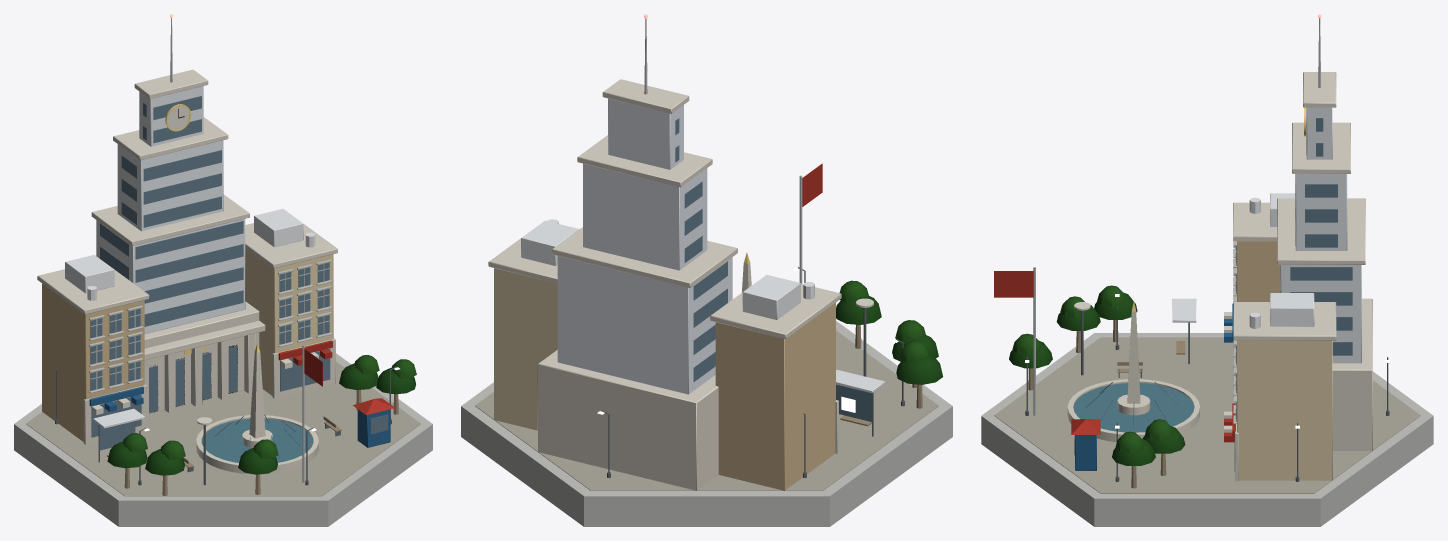
Rendered from cityCenter_us.glb.
3 renders of one model, left to right at view 1: azimuth 30°, elevation 25°; view 2: azimuth 150°, elevation 25°; view 3: azimuth 270°, elevation 25°, orthographic. The views are drawn at different scales.
Parts seen in each view (by area): view 1: glass, stone, pavers, wall_concrete, cladding, plaster, leaf, paint, steel_dark, wood, metal; view 2: cladding, stone, plaster, wall_concrete, pavers, leaf, glass, paint, steel_dark, metal; view 3: pavers, wall_concrete, stone, plaster, cladding, glass, leaf, paint, wood, steel_dark, metal.
Boxes of the visible parts, bbox=[...] form: glass: bbox=[90, 96, 388, 462]; stone: bbox=[37, 69, 337, 474]; pavers: bbox=[26, 361, 420, 496]; wall_concrete: bbox=[14, 259, 432, 526]; cladding: bbox=[65, 86, 315, 428]; plaster: bbox=[42, 248, 333, 441]; leaf: bbox=[107, 355, 416, 475]; paint: bbox=[89, 106, 394, 447]; steel_dark: bbox=[55, 367, 396, 485]; wood: bbox=[107, 390, 398, 495]; metal: bbox=[170, 18, 304, 482]; cladding: bbox=[521, 98, 884, 394]; stone: bbox=[488, 79, 841, 490]; plaster: bbox=[494, 268, 835, 490]; wall_concrete: bbox=[461, 321, 952, 526]; pavers: bbox=[475, 330, 938, 490]; leaf: bbox=[836, 280, 942, 384]; glass: bbox=[675, 118, 871, 421]; paint: bbox=[802, 163, 873, 307]; steel_dark: bbox=[602, 267, 904, 477]; metal: bbox=[644, 18, 802, 283]; pavers: bbox=[994, 337, 1420, 493]; wall_concrete: bbox=[981, 241, 1433, 526]; stone: bbox=[1067, 72, 1372, 481]; plaster: bbox=[1237, 241, 1332, 480]; cladding: bbox=[1172, 107, 1361, 363]; glass: bbox=[1073, 108, 1352, 471]; leaf: bbox=[1009, 285, 1185, 465]; paint: bbox=[994, 271, 1235, 470]; wood: bbox=[1028, 320, 1185, 488]; steel_dark: bbox=[1025, 291, 1389, 481]; metal: bbox=[1033, 18, 1320, 415].
Bounding box in the file's own units: 21.3 × 25.76 × 24.6.
